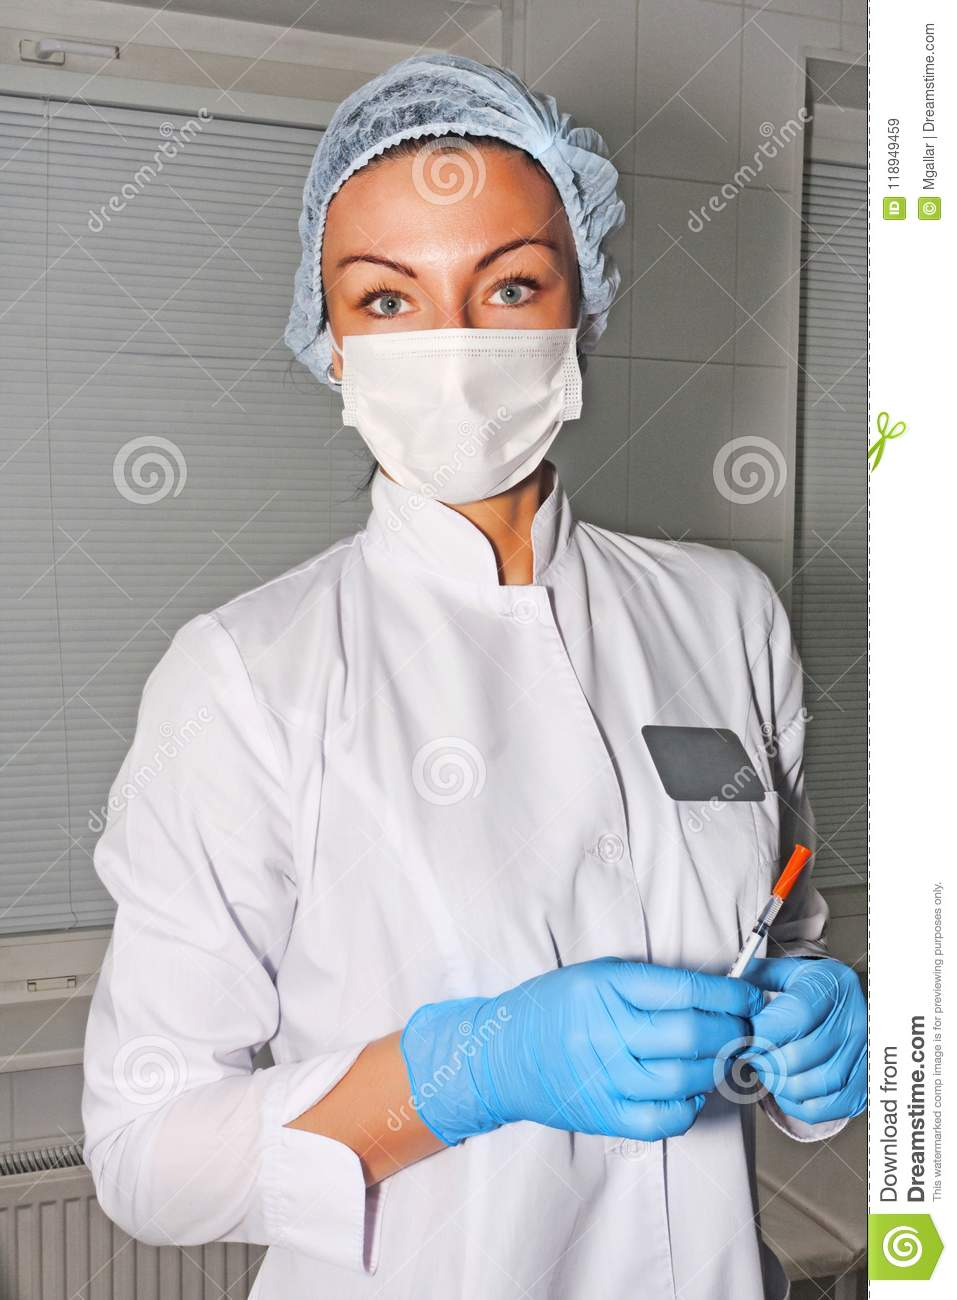mask: (318, 333, 614, 507)
